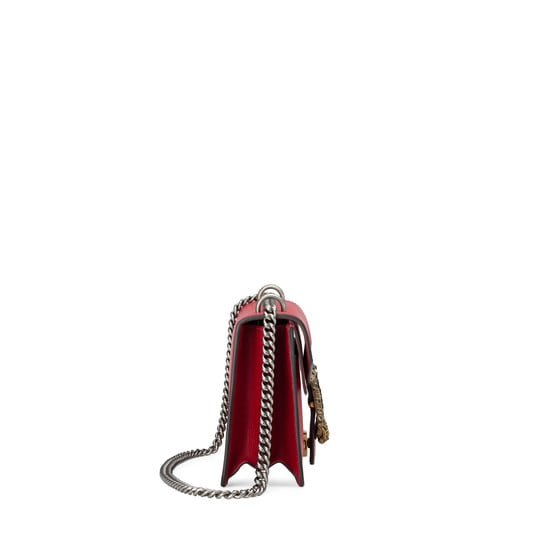Gucci: (181, 253, 353, 504), (300, 341, 344, 459)
